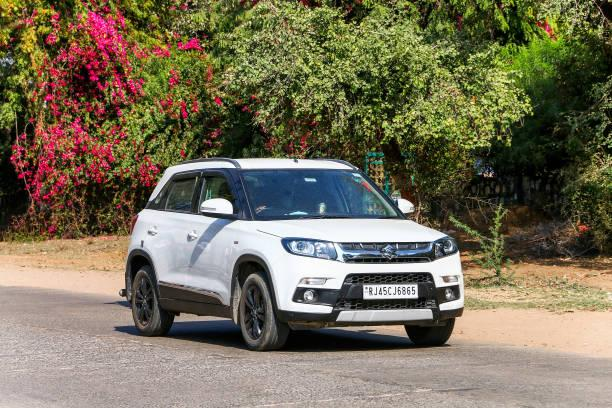suzuki: (381, 243, 399, 262)
